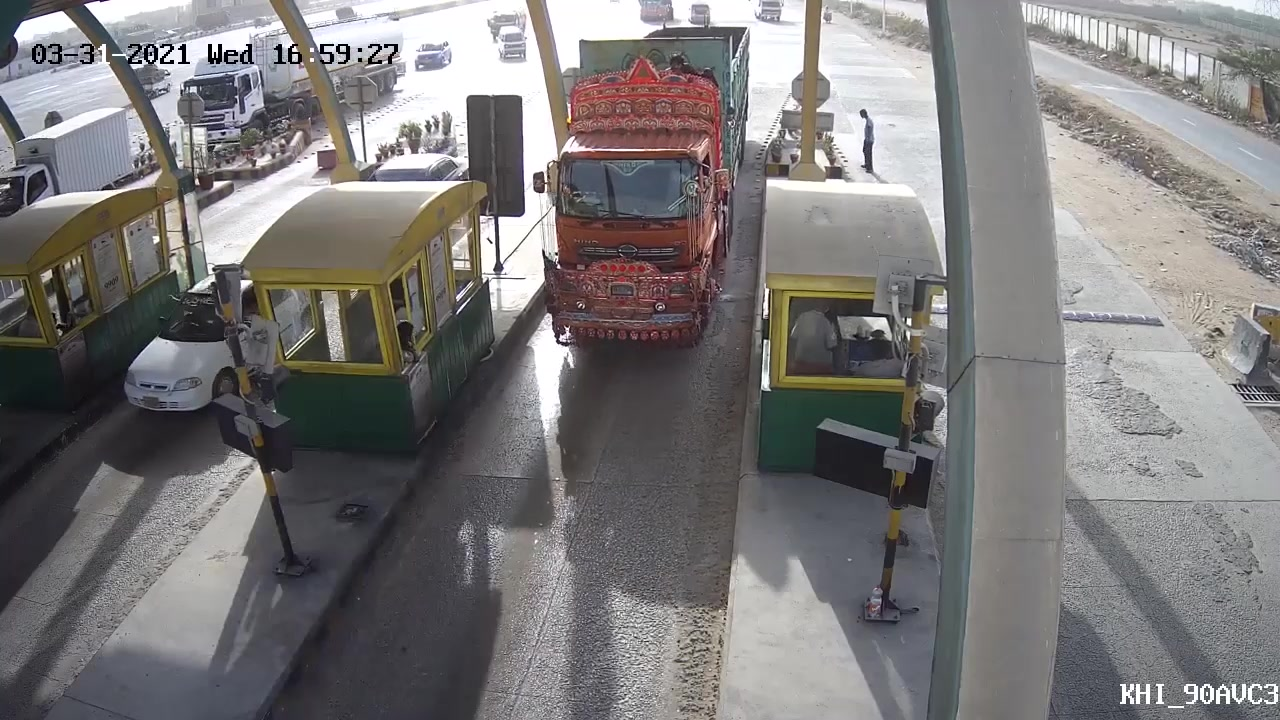F6: (540, 20, 758, 346)
